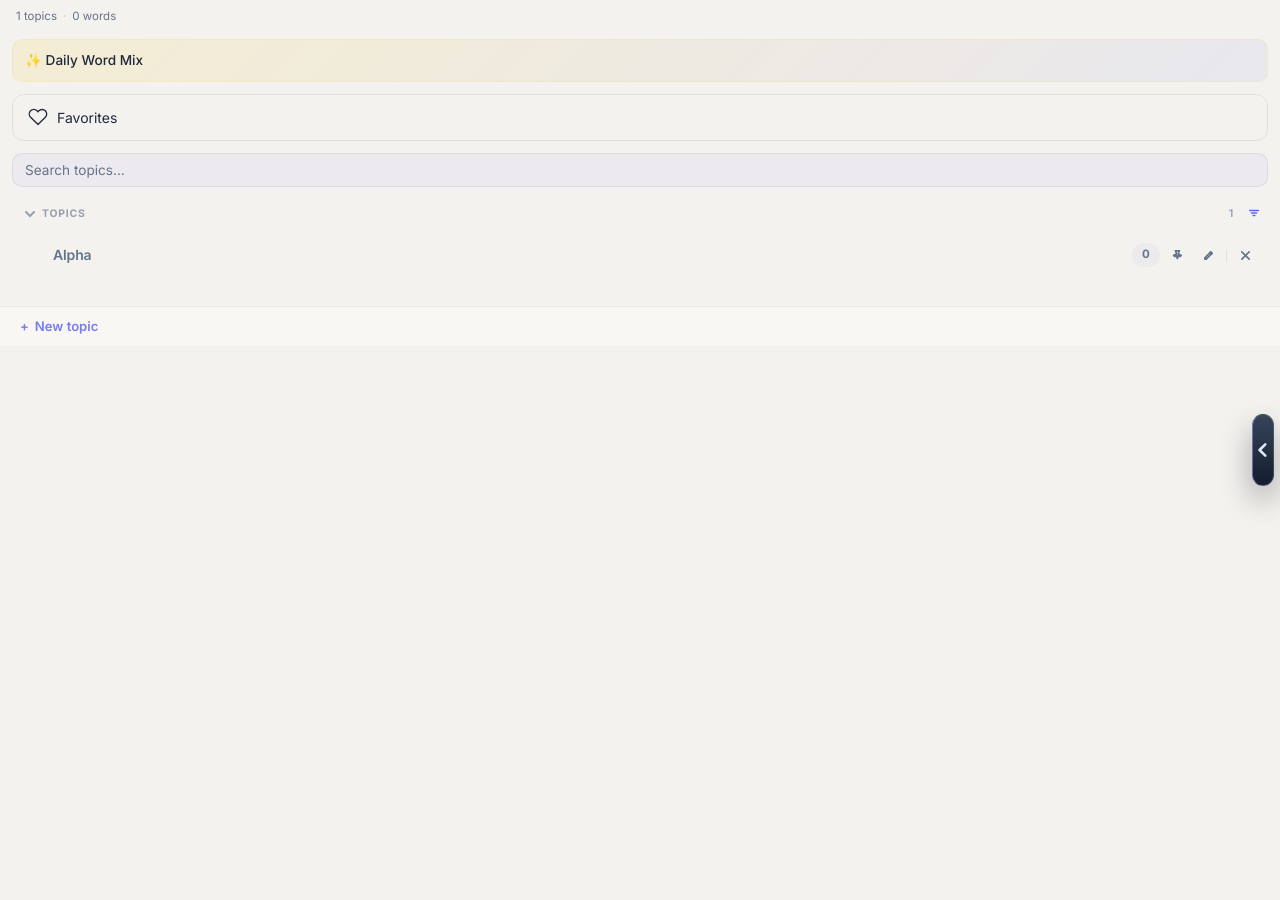
Test: TopicSidebar cache invalidation › shows backend delete constraints when a topic cannot be deleted
Click the button titled "Delete topic" at (1245, 256), box [1229,238,1261,274]
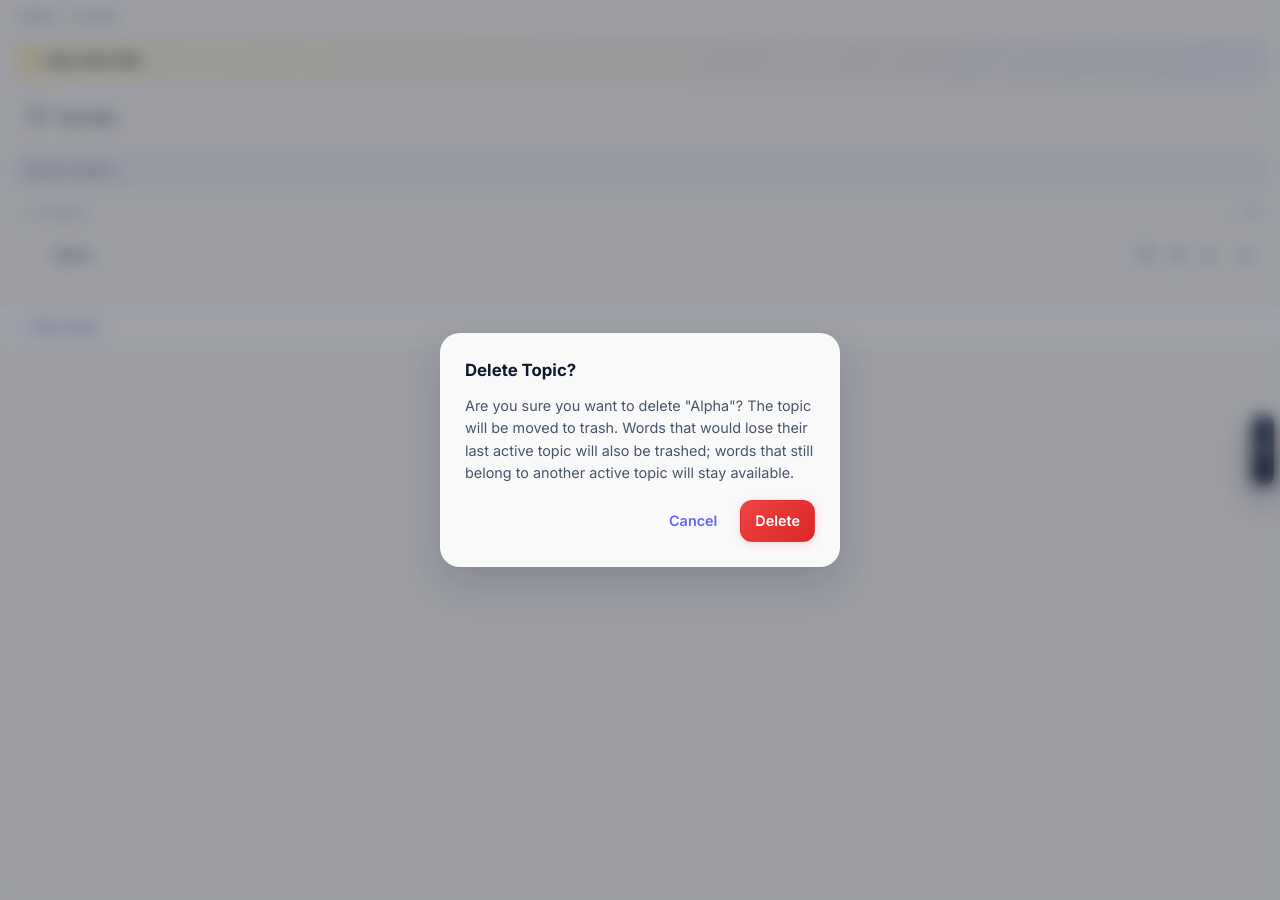
Click the button "Delete" at (778, 521), box [740,500,815,542]
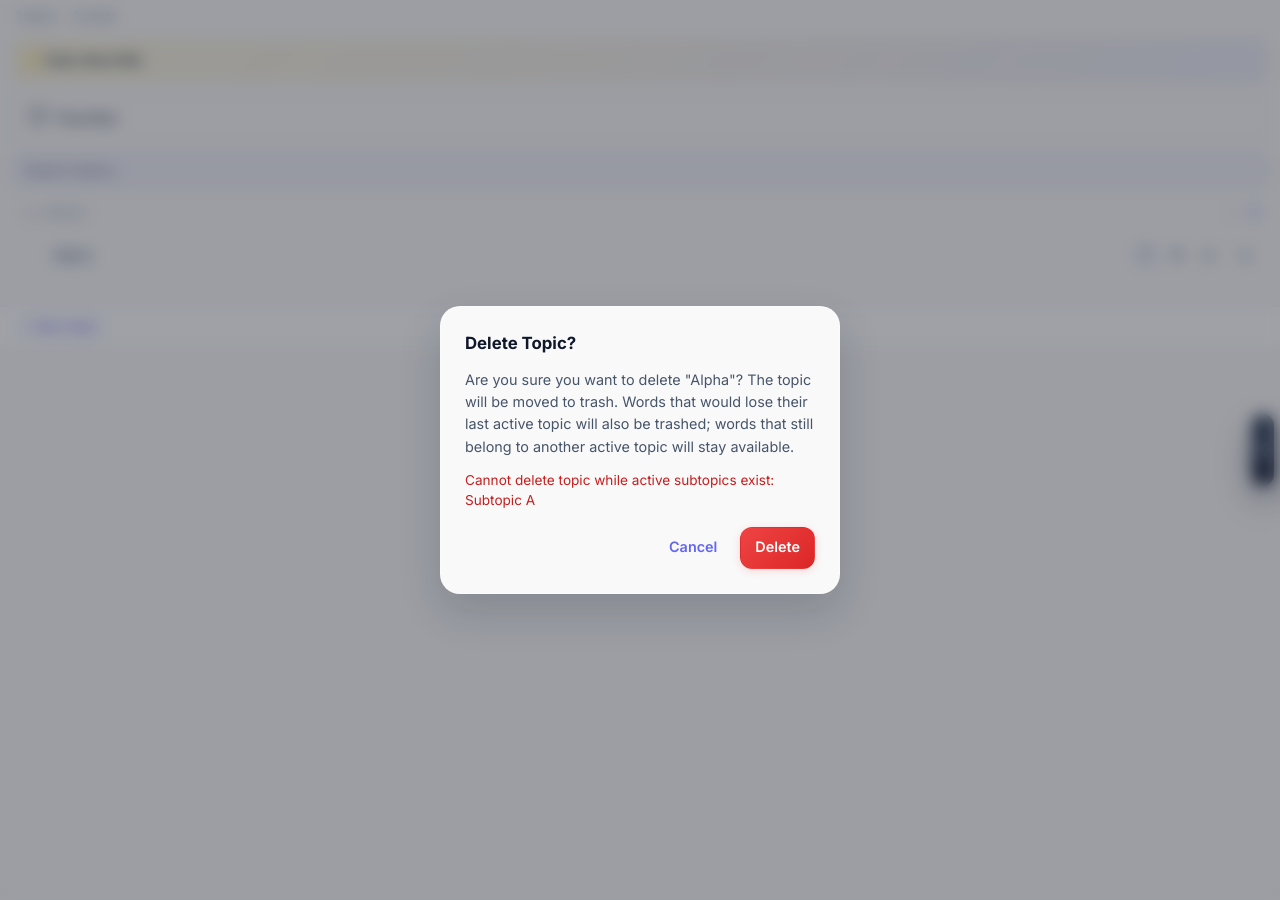
Check: the button "Delete" is shown, box [740,527,815,569]
Check: the text "Cannot delete topic while active subtopics exist: Subtopic A" is shown, box [465,470,815,511]
